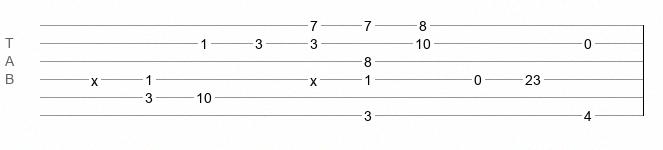0: (474, 72, 482, 82), (584, 36, 592, 46)
1: (145, 72, 153, 82), (200, 36, 208, 46), (364, 72, 372, 82)
10: (196, 90, 212, 100), (415, 36, 431, 46)
23: (525, 72, 541, 82)
3: (145, 90, 153, 100), (255, 36, 263, 46), (310, 36, 318, 46), (364, 108, 372, 118)
4: (584, 108, 592, 118)
7: (310, 18, 318, 28), (364, 18, 372, 28)
8: (364, 54, 372, 64), (419, 18, 427, 28)
x: (91, 73, 98, 81), (310, 73, 317, 81)
